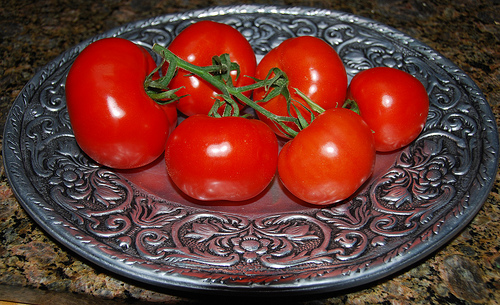tomato: (66, 29, 178, 171), (272, 119, 378, 211), (168, 113, 276, 197), (174, 15, 258, 107), (258, 33, 348, 113), (350, 69, 438, 141)
